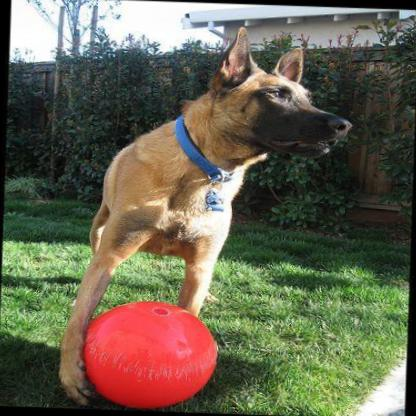malinois: (51, 17, 360, 416)
